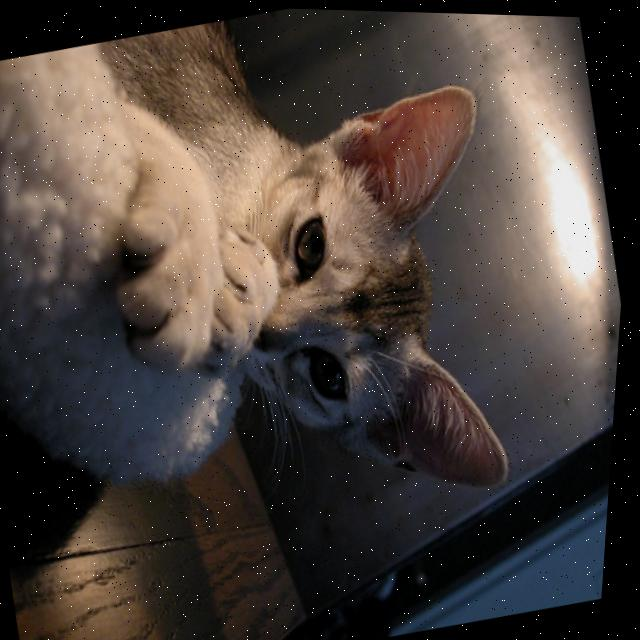Abyssinian: (42, 2, 570, 573)
